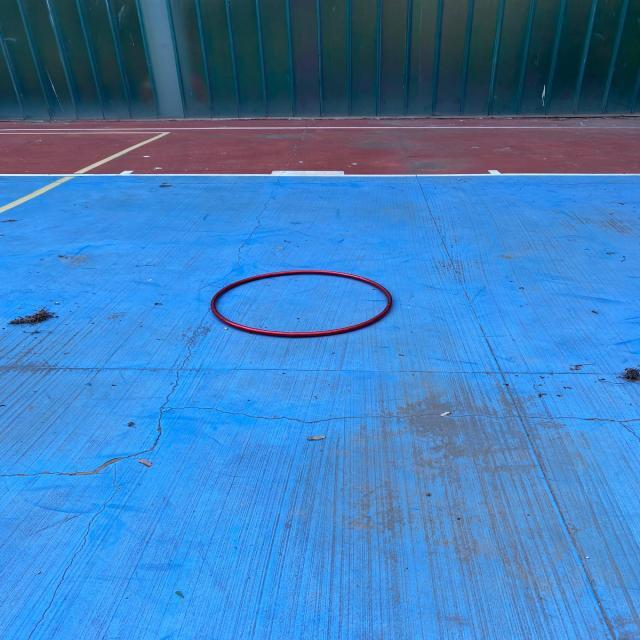Circle: (210, 270, 393, 338)
